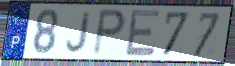7: (163, 10, 192, 58), (193, 11, 223, 57)
8: (32, 8, 60, 56)
E: (124, 8, 162, 58)
J: (65, 11, 93, 54)
P: (91, 7, 129, 58)
